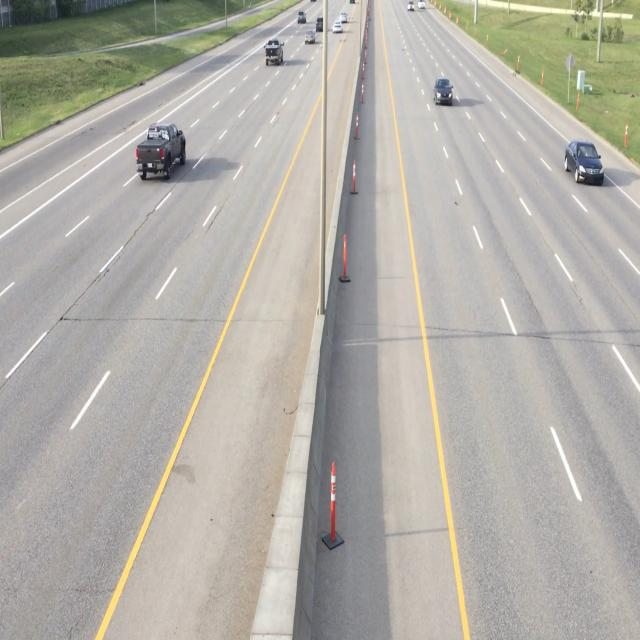Car: (134, 120, 186, 180), (564, 138, 604, 192), (433, 74, 454, 110), (264, 38, 284, 68)
